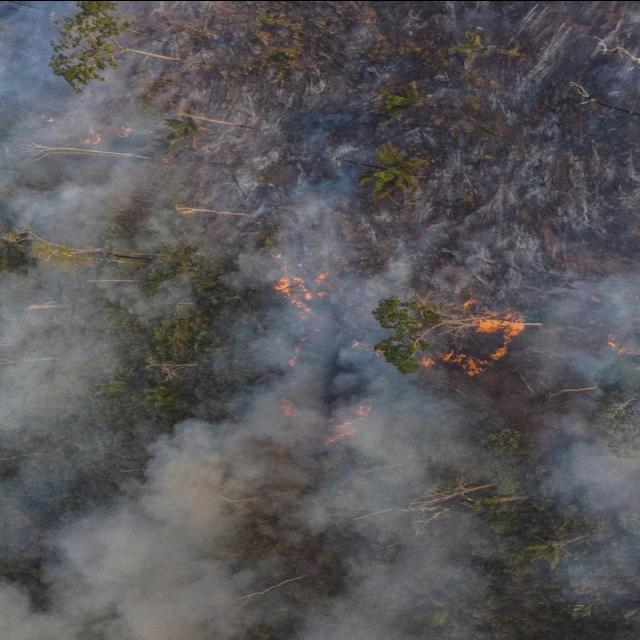Fire: (474, 307, 522, 363), (273, 272, 327, 316), (328, 402, 373, 448), (286, 329, 320, 369), (424, 354, 486, 372), (604, 334, 630, 354), (80, 126, 102, 144), (277, 396, 295, 414), (115, 122, 134, 136), (460, 296, 474, 308)
